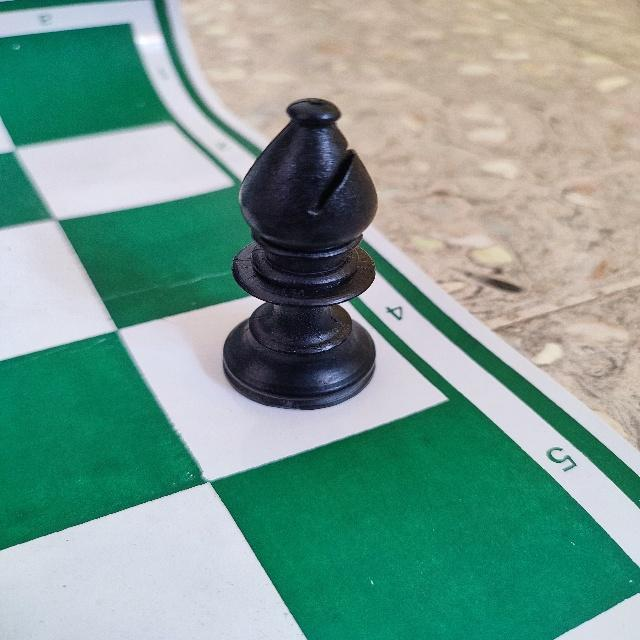Bishop: (220, 90, 380, 414)
